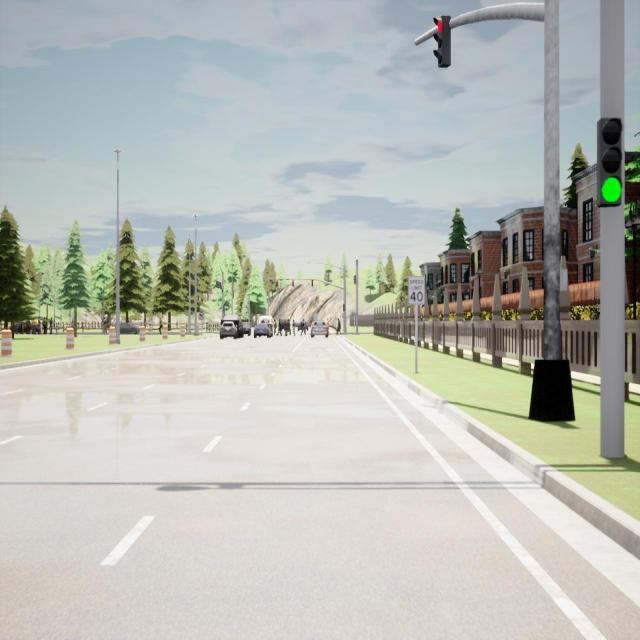Pedestrian: (156, 316, 164, 336), (102, 316, 109, 334), (42, 316, 49, 334), (37, 314, 43, 334), (32, 318, 38, 336), (300, 319, 306, 336), (336, 318, 342, 335), (277, 319, 282, 336), (292, 319, 297, 336), (286, 318, 290, 336), (54, 322, 59, 336), (273, 319, 277, 336), (49, 317, 53, 334)
Traffic_Signs: (409, 276, 424, 302), (199, 312, 204, 320)
Vehicle: (222, 315, 243, 337), (311, 320, 329, 338), (258, 316, 274, 336), (119, 322, 140, 336), (220, 321, 237, 338), (254, 323, 271, 338), (242, 319, 251, 335)
traffic_light: (597, 118, 622, 207), (433, 15, 453, 70), (353, 275, 356, 284), (343, 304, 345, 312), (218, 281, 220, 288), (276, 280, 278, 286), (216, 281, 218, 287), (292, 280, 294, 286), (220, 282, 221, 289), (312, 280, 313, 286)
